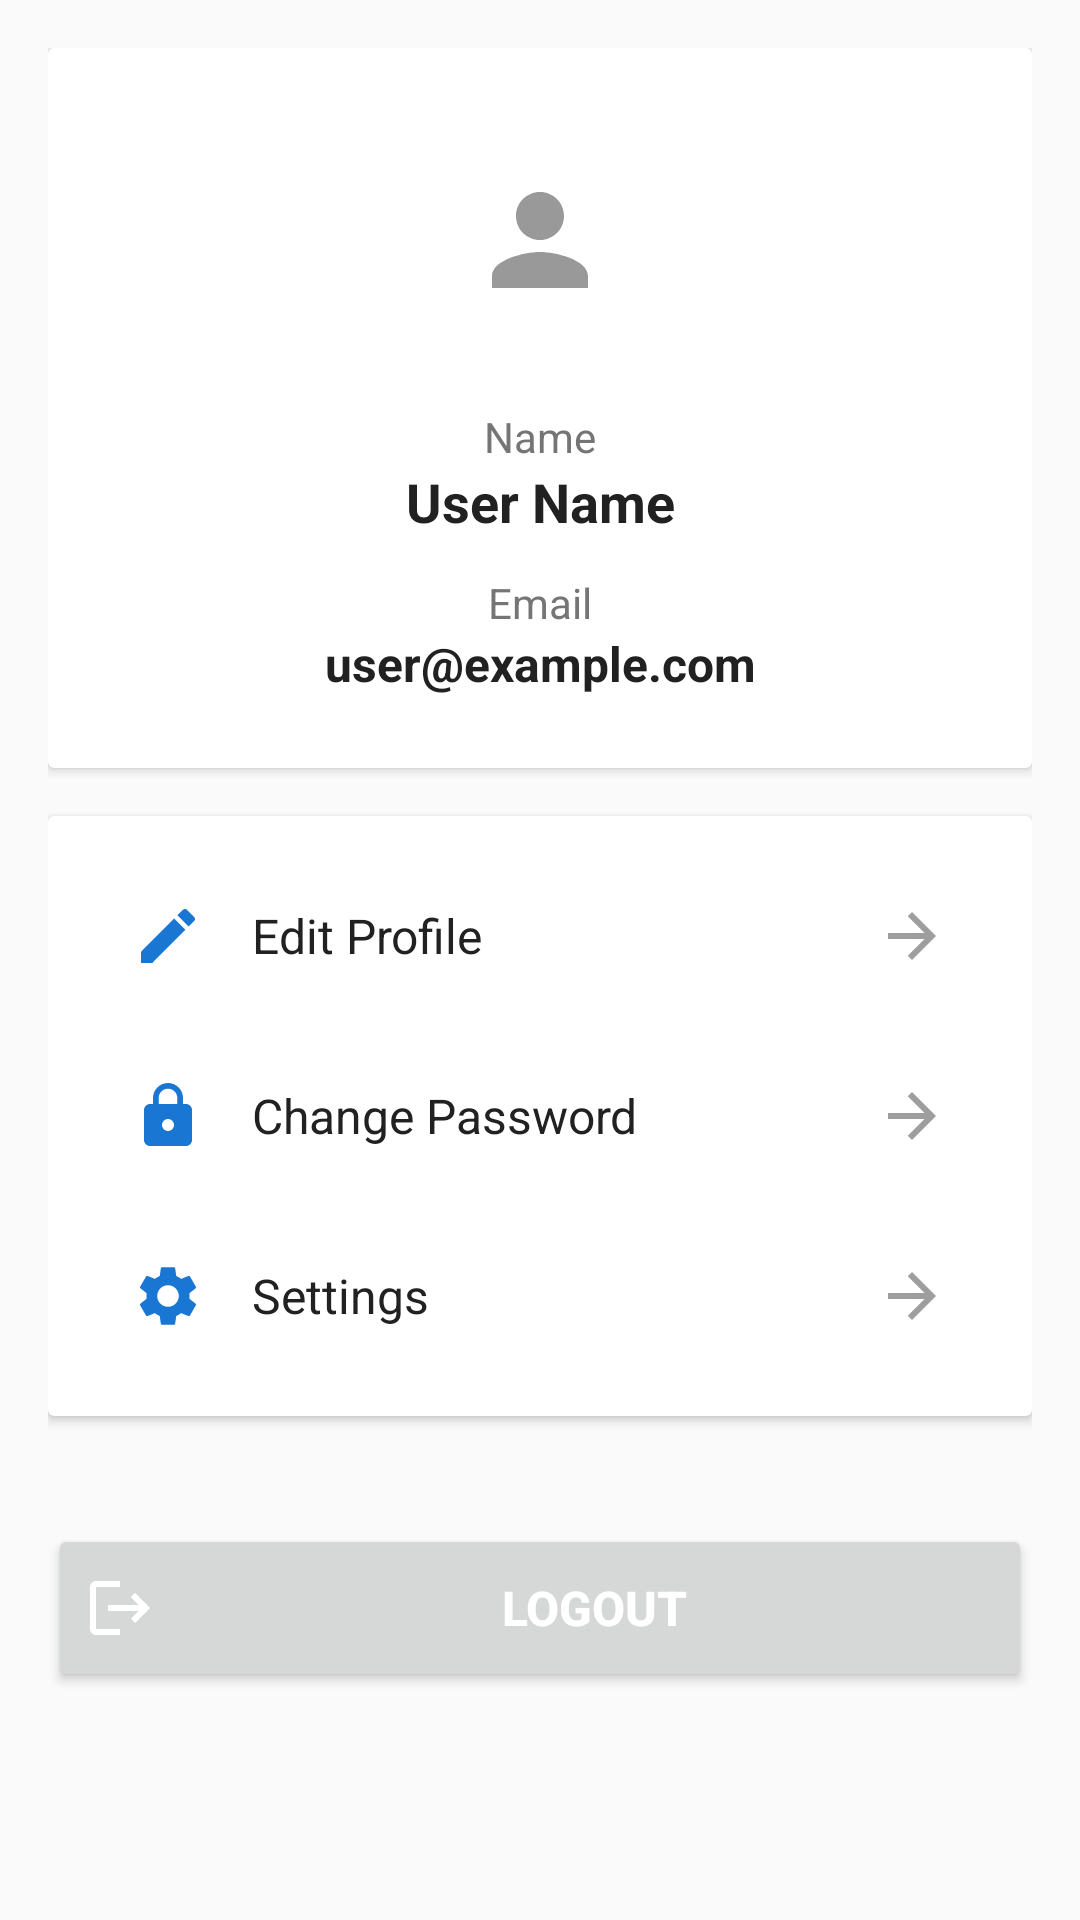

Locate icon controls on the screen. Image size 1080px x 1920px, boxes as [x1,y1,x2,y2].
arrow forward: [888,912,936,960], [888,1092,936,1140], [888,1272,936,1320]
lock: [144,1083,192,1146]
person: [492,192,588,288]
